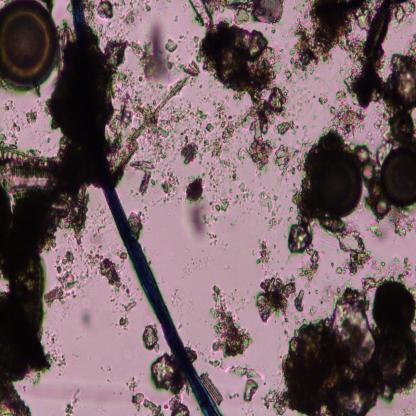Background material: (264, 287, 416, 414), (0, 193, 66, 415), (197, 21, 282, 180), (54, 26, 120, 190), (112, 74, 188, 183), (282, 0, 370, 87), (343, 0, 416, 103), (209, 281, 254, 358), (318, 214, 370, 276), (128, 25, 178, 87), (286, 151, 314, 253), (209, 106, 238, 194), (186, 0, 284, 25), (174, 104, 212, 162), (255, 271, 296, 323), (318, 92, 367, 135), (43, 249, 78, 308), (60, 184, 92, 244), (149, 354, 187, 394), (227, 363, 263, 401), (98, 258, 132, 298), (189, 202, 217, 246), (369, 259, 416, 283), (102, 37, 128, 79), (283, 85, 312, 121), (44, 334, 67, 376), (310, 128, 356, 149), (128, 390, 165, 415), (388, 206, 416, 237), (298, 246, 320, 285), (132, 160, 157, 194), (275, 144, 302, 174), (182, 173, 209, 202), (160, 392, 190, 416), (183, 252, 213, 275), (201, 374, 224, 404), (392, 0, 416, 28), (0, 118, 20, 151), (91, 202, 107, 242), (158, 172, 180, 199), (119, 1, 138, 31), (82, 246, 102, 274), (253, 238, 273, 266), (143, 322, 161, 353), (76, 301, 94, 332), (274, 120, 300, 138), (64, 388, 82, 414), (128, 211, 144, 240), (257, 186, 274, 213), (235, 182, 254, 206), (182, 58, 199, 82), (96, 2, 117, 20), (170, 289, 184, 314), (266, 212, 284, 231), (368, 220, 384, 241), (23, 106, 39, 127), (84, 0, 96, 25), (295, 289, 307, 314), (98, 358, 111, 380), (215, 198, 230, 216), (3, 97, 17, 114), (124, 375, 138, 392), (166, 37, 179, 54), (207, 358, 225, 369), (123, 300, 136, 312), (118, 316, 129, 330), (308, 302, 318, 316), (126, 347, 135, 358), (119, 250, 127, 260), (144, 3, 152, 10)
Cotton: (69, 1, 226, 415)
Diatom: (0, 0, 59, 90), (0, 146, 66, 198), (314, 150, 364, 216), (372, 281, 416, 336), (380, 147, 416, 206), (390, 112, 414, 142), (361, 162, 376, 180), (374, 198, 389, 216), (356, 146, 369, 164)
